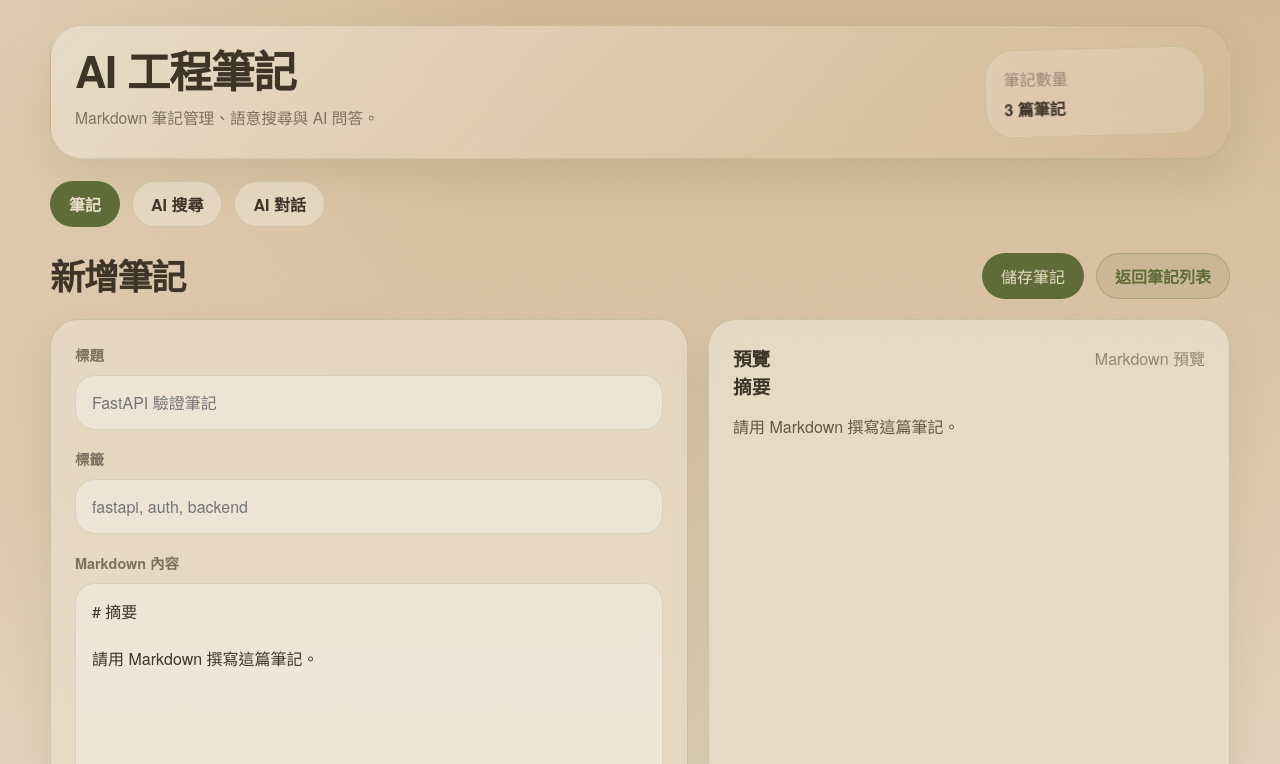
it: client app › saves a new note and returns to the notes list with a success toast
Clear the field labelled "標題" at point(369, 402), box top-left (75, 375), bottom-right (663, 430)
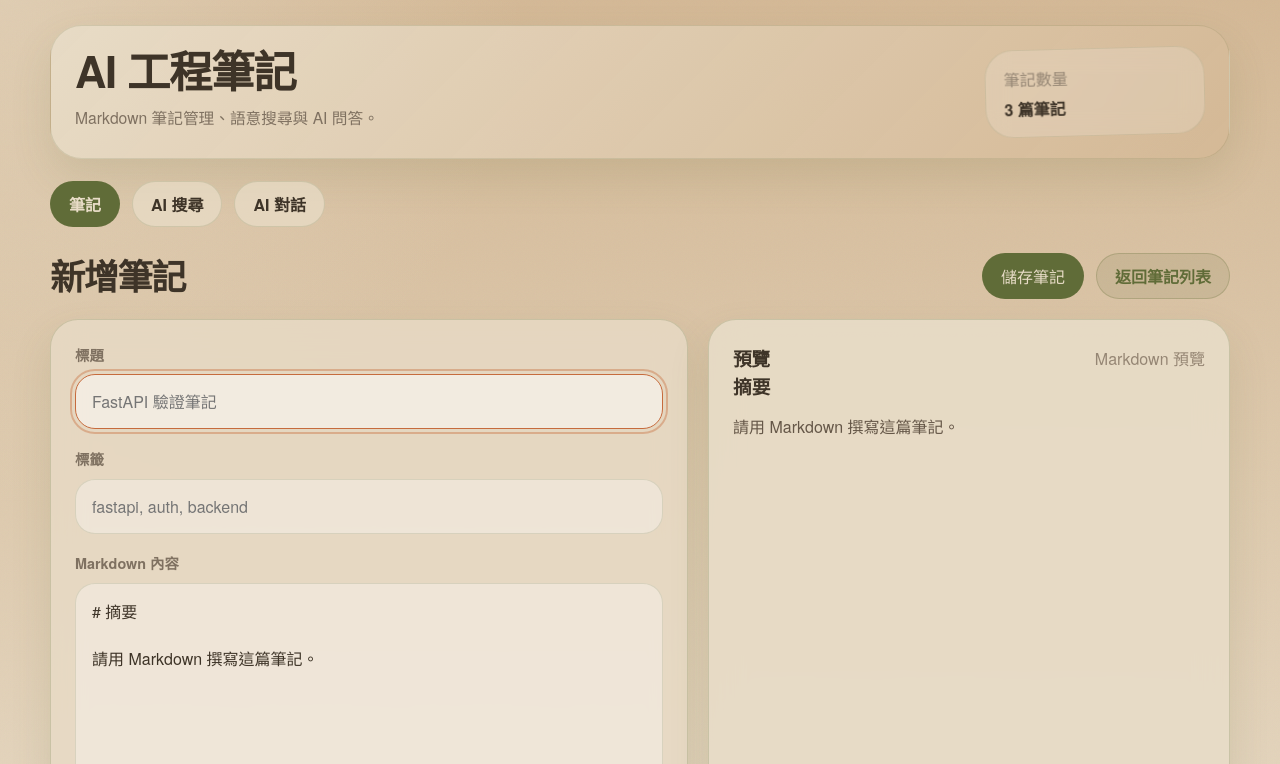
Type "新的測試筆記" into the field labelled "標題" at point(369, 401), box top-left (75, 374), bottom-right (663, 429)
(page scrolled)
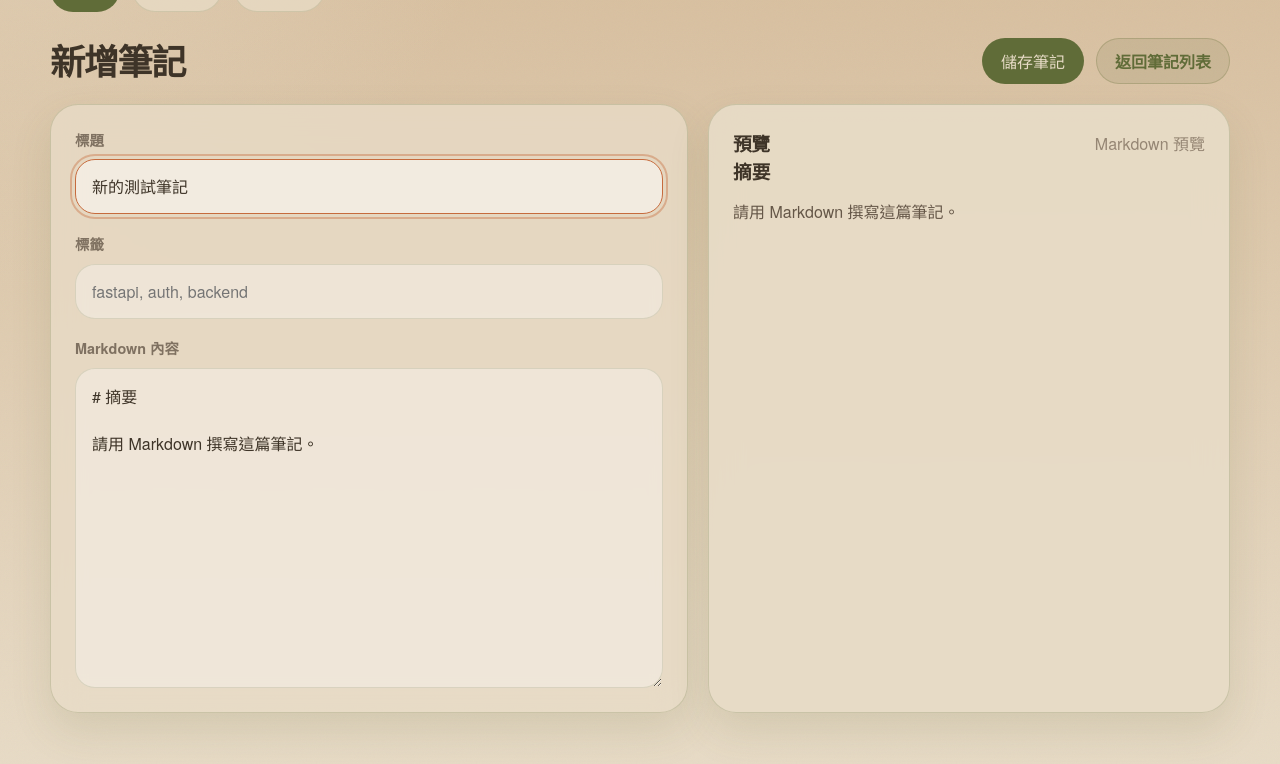
Clear the text box labelled "Markdown 內容" at point(369, 528), box top-left (75, 368), bottom-right (663, 688)
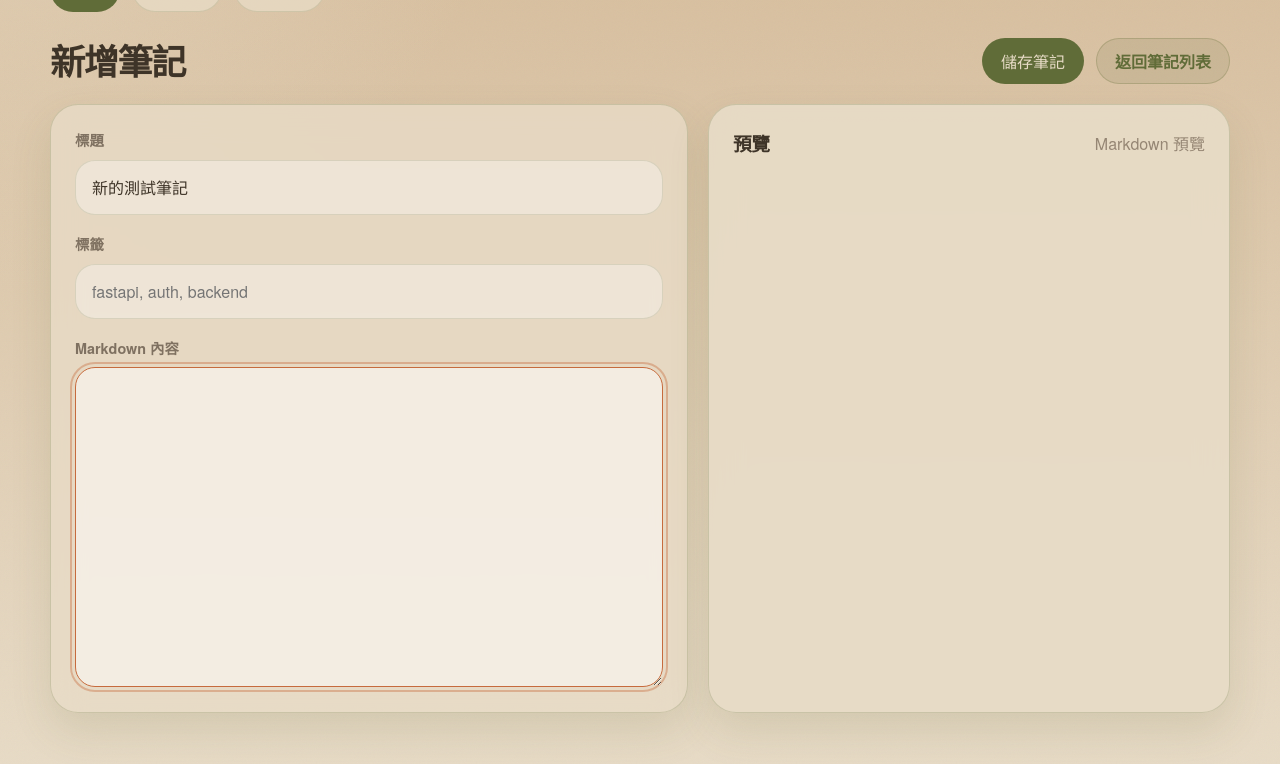
Type "# 測試內容" into the text box labelled "Markdown 內容" at point(369, 527), box top-left (75, 367), bottom-right (663, 687)
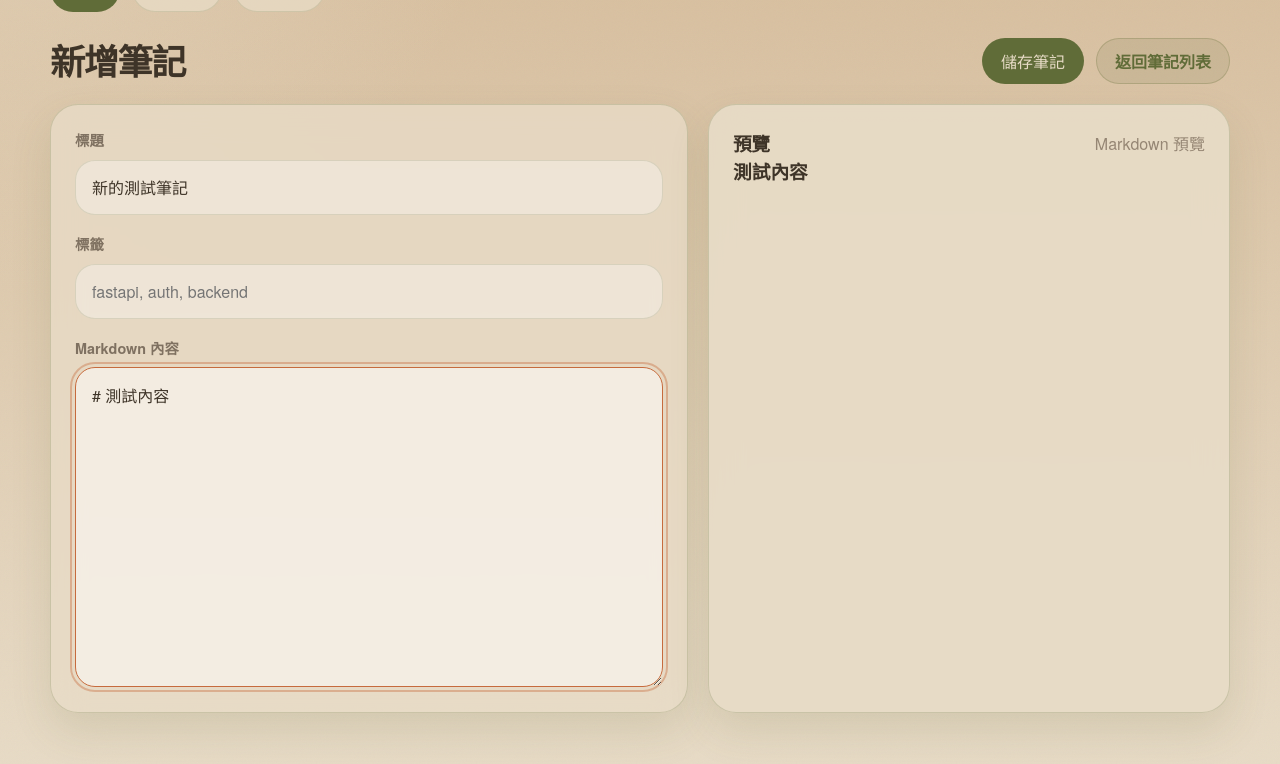
Click the button "儲存筆記" at point(1033, 61), box top-left (982, 38), bottom-right (1084, 84)
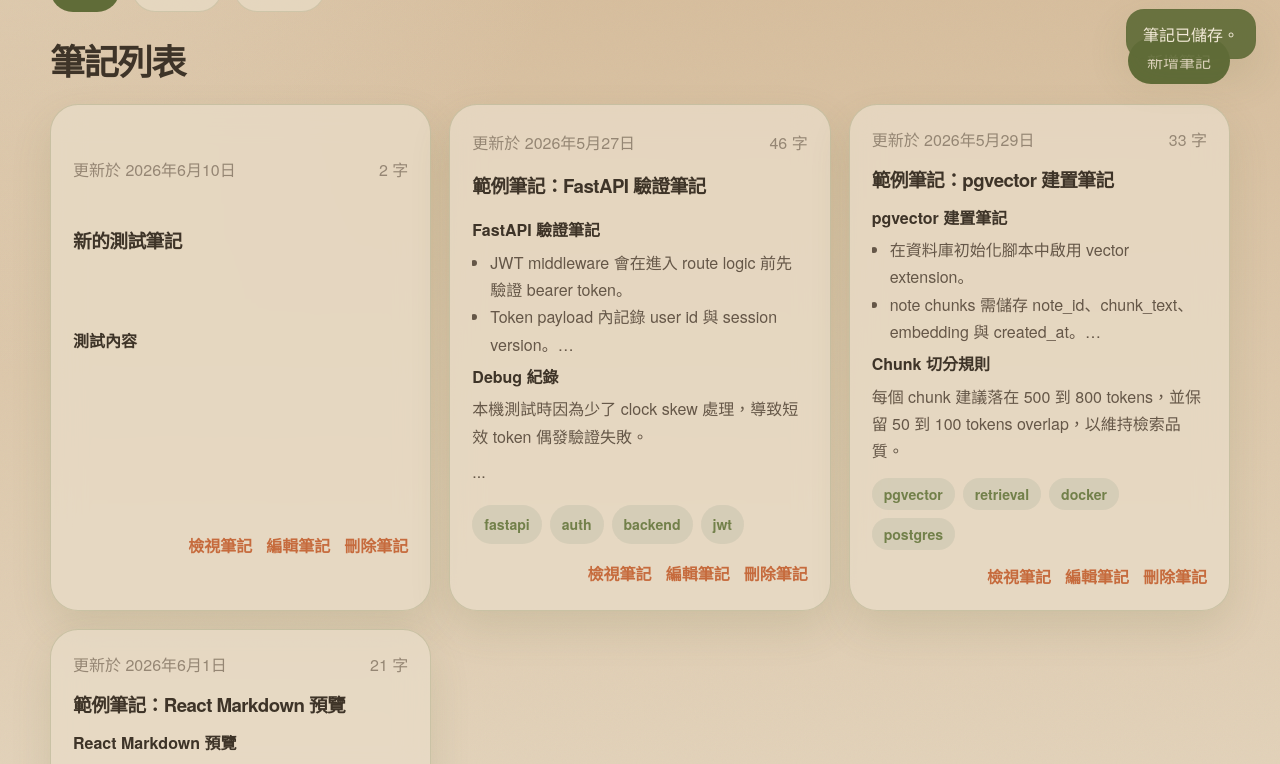
Expected: the heading "筆記列表" is shown, top-left (50, 42), bottom-right (185, 80)
Now the text "筆記已儲存。" is shown, box top-left (1126, 9), bottom-right (1256, 59)
